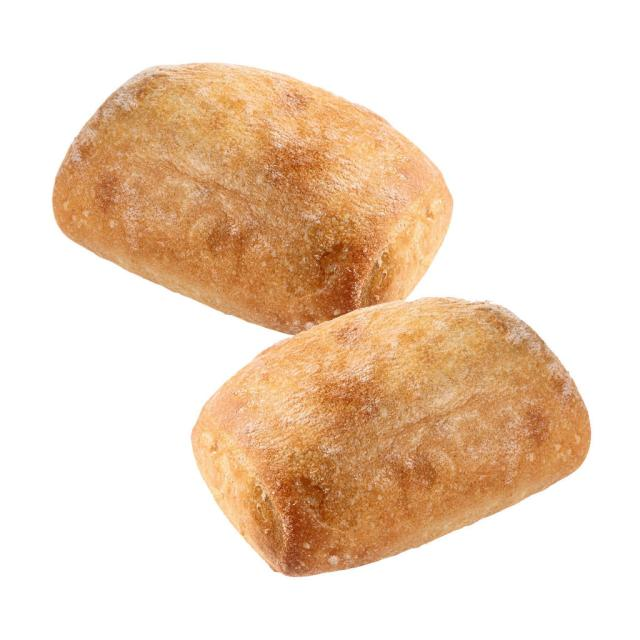Ciabatta: (192, 298, 590, 576), (53, 64, 452, 334)
